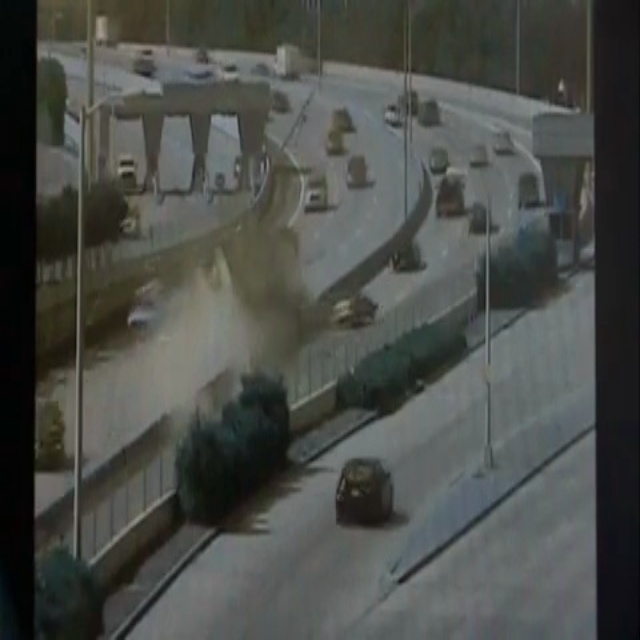acc: (158, 239, 310, 409)
